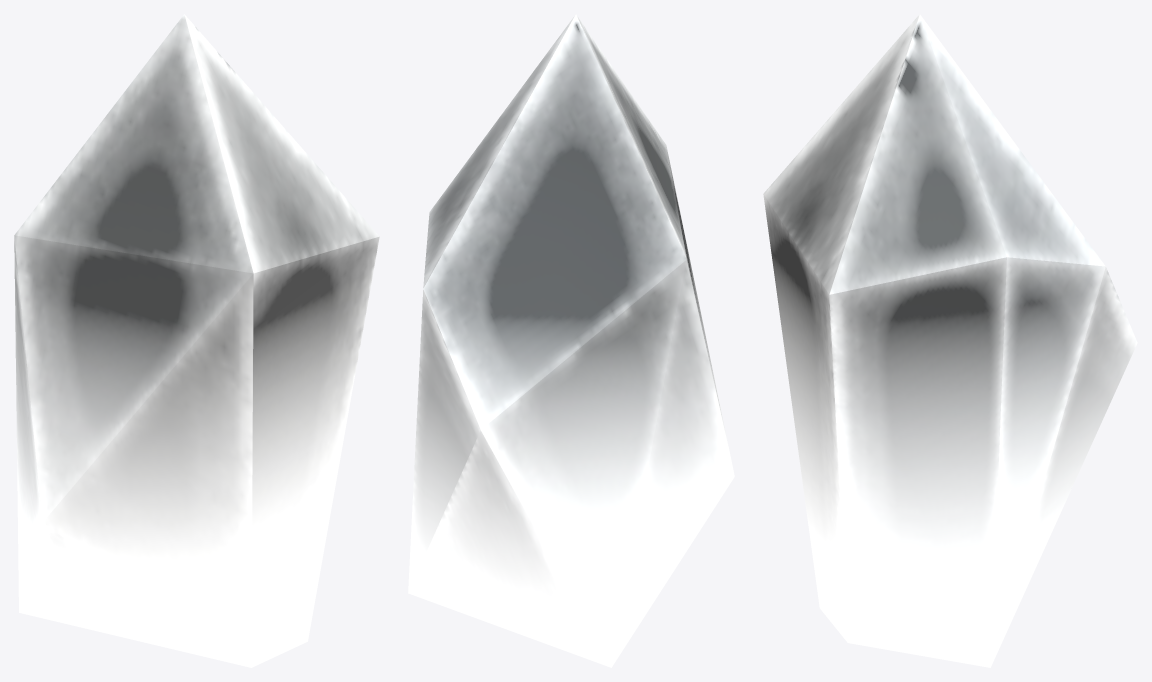
The model's file is crystal_piece_006.fbx.
3 views of the same model, side by side, from view 1: azimuth 30°, elevation 25°; view 2: azimuth 150°, elevation 25°; view 3: azimuth 270°, elevation 25° (orthographic). The views are drawn at different scales.
Parts seen in each view (by area): view 1: crystal_piece_006; view 2: crystal_piece_006; view 3: crystal_piece_006.
Boxes of the visible parts, <box> form: crystal_piece_006: <box>14,14,379,667</box>; crystal_piece_006: <box>408,14,734,667</box>; crystal_piece_006: <box>763,14,1137,667</box>.
Size of the model in its own units: 0.4234 by 0.8297 by 0.4776.
1 material, 1 textured.
